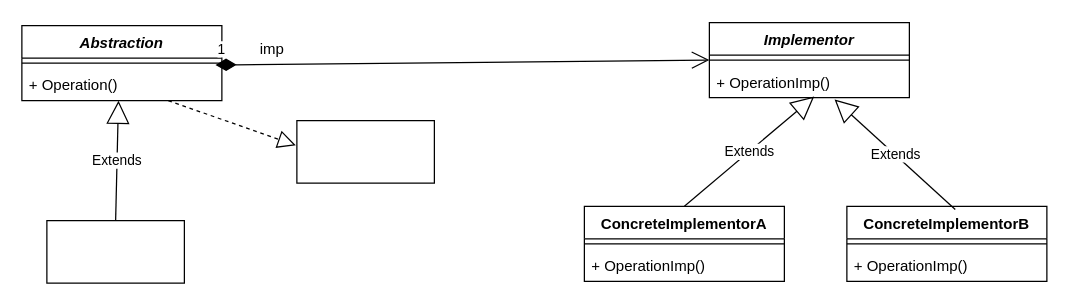
Image size: 1069x306. Some labels were removed from this diagram. The shapes that lost their labels are listed below. From the top down, each one's box as (x1, y1, x2, y2) in pixels, then its label:
(296, 119, 434, 183): imp->Operation()
(46, 219, 184, 283): RefineAbstraction
